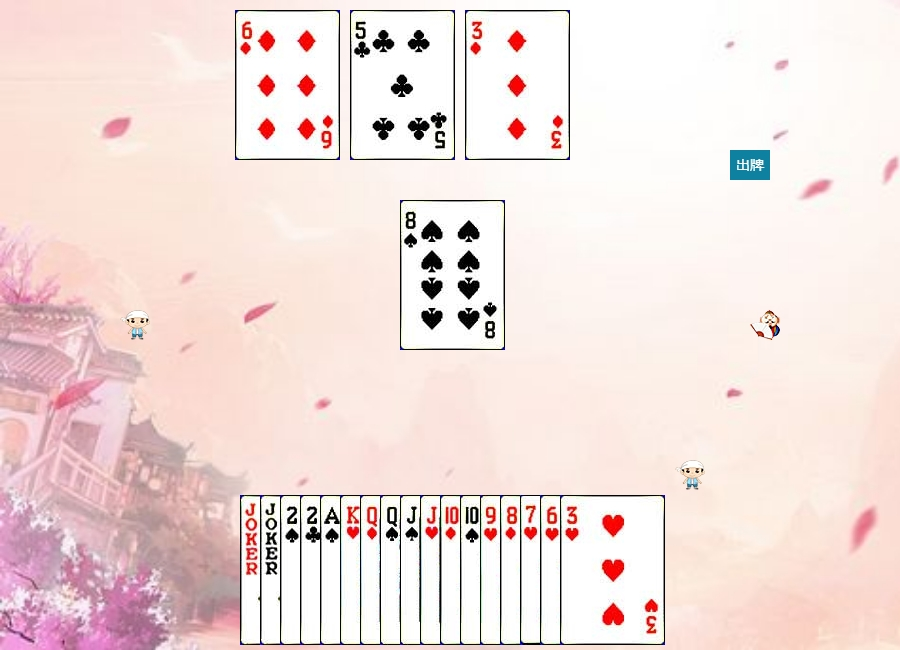10~1: (440, 495, 545, 645)
10~4: (460, 495, 565, 645)
11~3: (420, 495, 525, 645)
11~4: (400, 495, 505, 645)
12~1: (360, 495, 465, 645)
12~4: (380, 495, 485, 645)
13~3: (340, 495, 445, 645)
14~4: (320, 495, 425, 645)
15~2: (300, 495, 405, 645)
15~4: (280, 495, 385, 645)
17~3: (260, 495, 365, 645)
18~4: (240, 495, 345, 645)
3~1: (465, 10, 570, 160)
3~3: (560, 495, 665, 645)
5~2: (350, 10, 455, 160)
6~1: (235, 10, 340, 160)
6~3: (540, 495, 645, 645)
7~3: (520, 495, 625, 645)
8~1: (500, 495, 605, 645)
8~4: (400, 200, 505, 350)
9~3: (480, 495, 585, 645)
